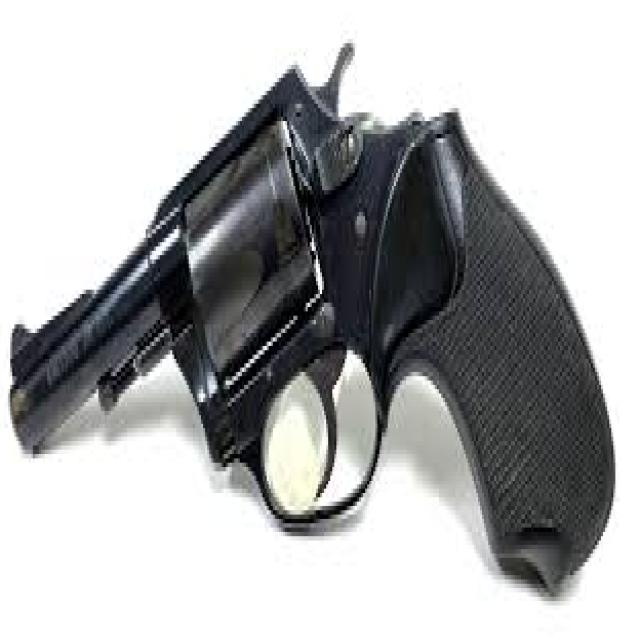Gun: (8, 7, 628, 616)
